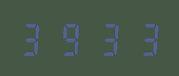nine: (53, 20, 87, 56)
three: (18, 20, 52, 56), (88, 20, 122, 56), (123, 20, 157, 56)
